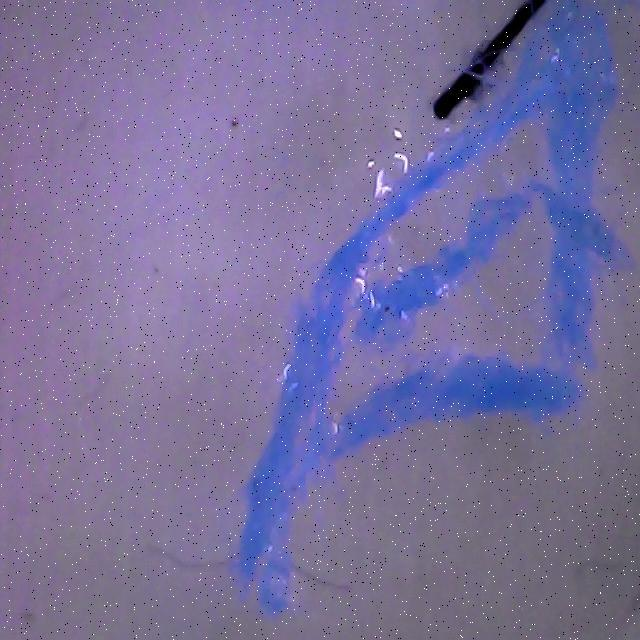fibers: (172, 13, 565, 618), (336, 164, 531, 365), (525, 6, 632, 367), (320, 338, 585, 458), (430, 0, 547, 125)
